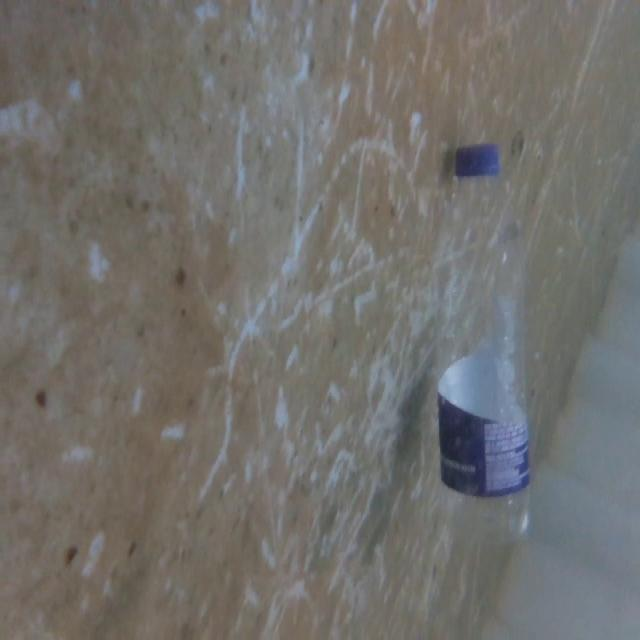plastic bottle: (434, 129, 538, 554)
